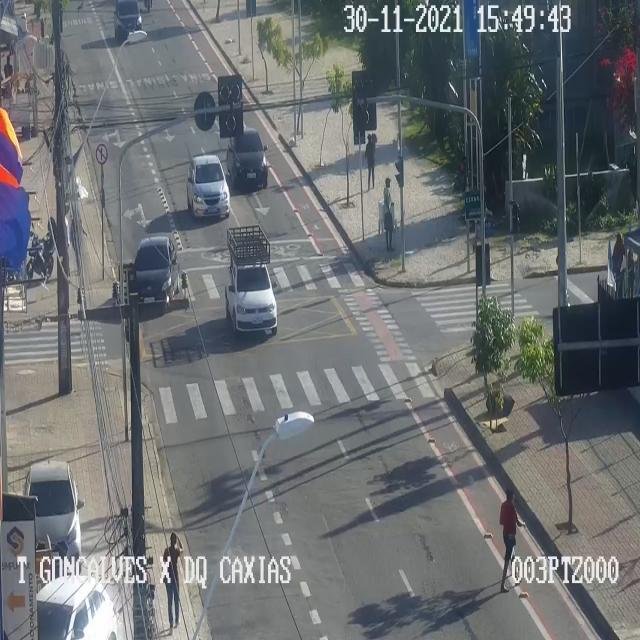Car: (24, 462, 80, 572), (36, 575, 116, 639), (224, 262, 276, 334), (134, 236, 179, 302), (187, 154, 229, 215), (226, 128, 266, 188), (111, 0, 146, 40)
Motorcycle: (25, 232, 57, 286)
